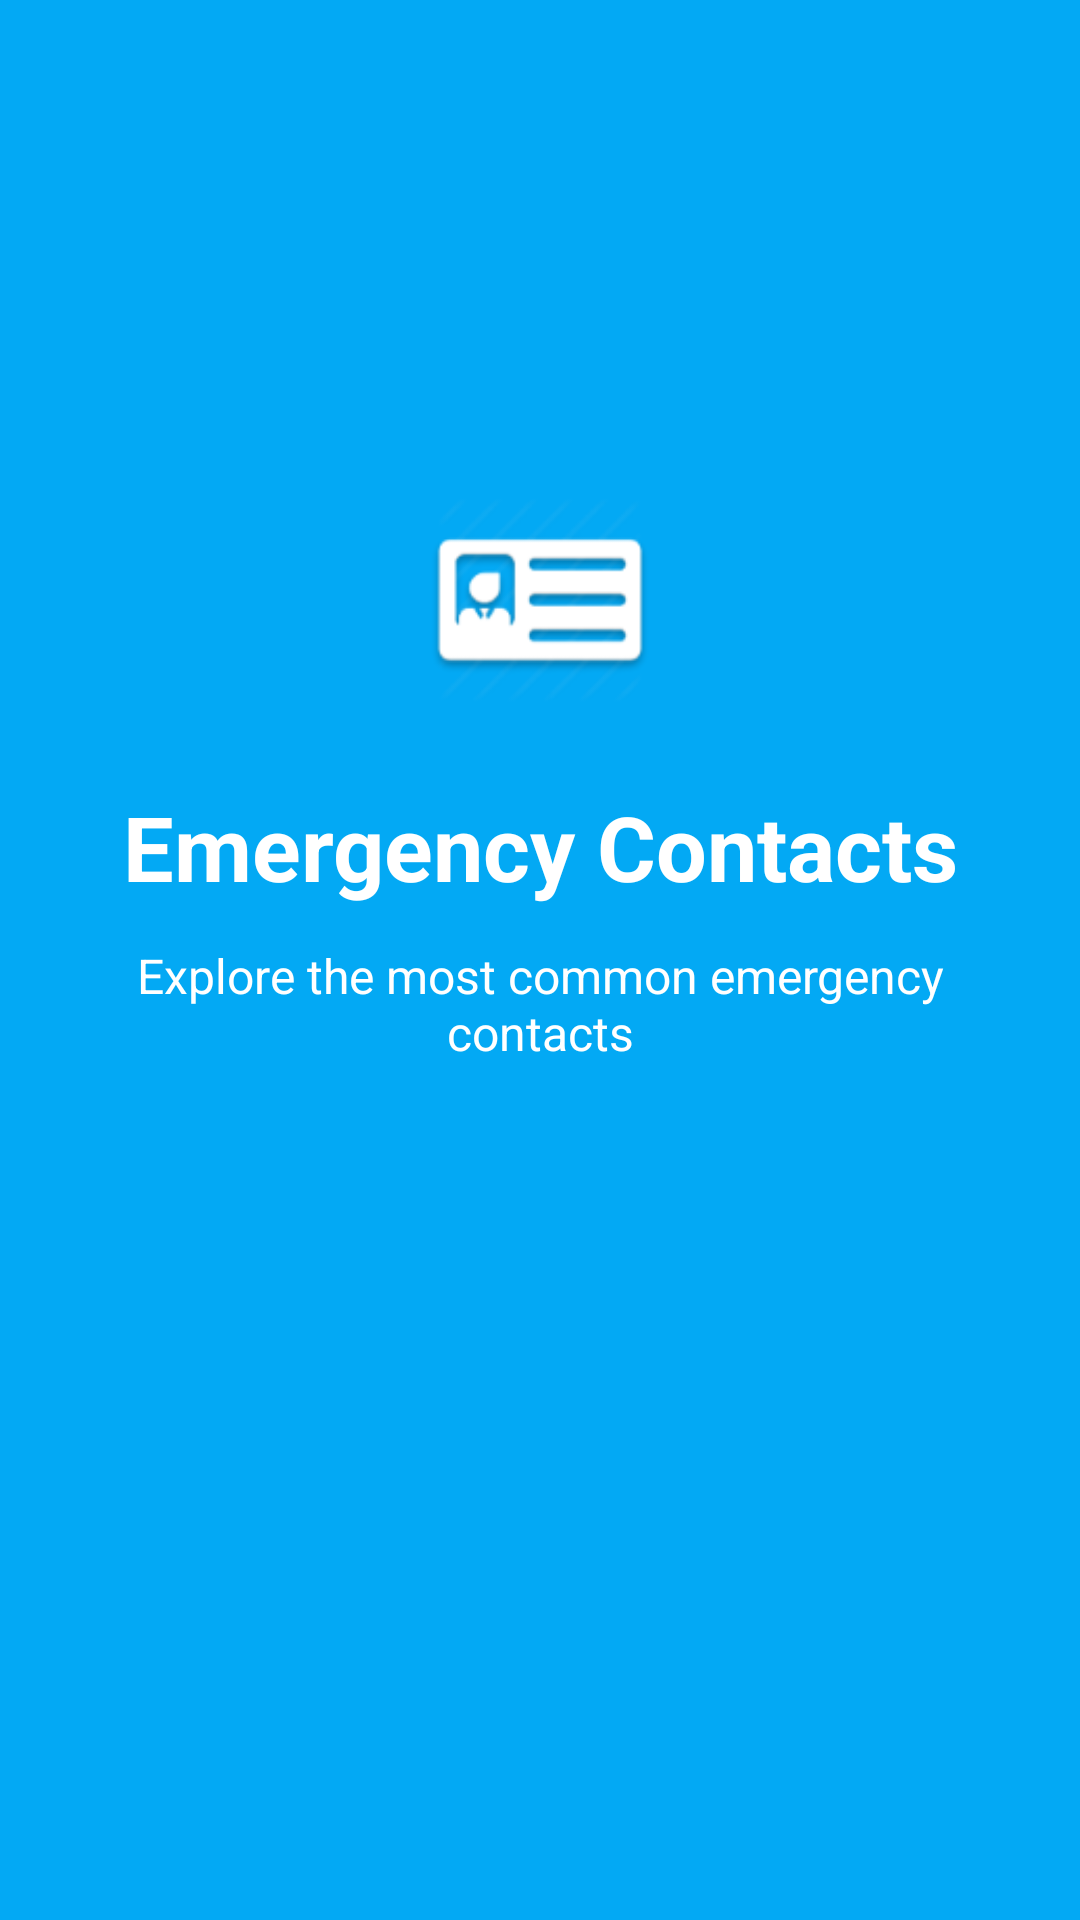

Icon bounding boxes for this 1080*1920 phone screenshot, format (x1, y1, x2, y2):
econtact: (437, 538, 643, 667)
